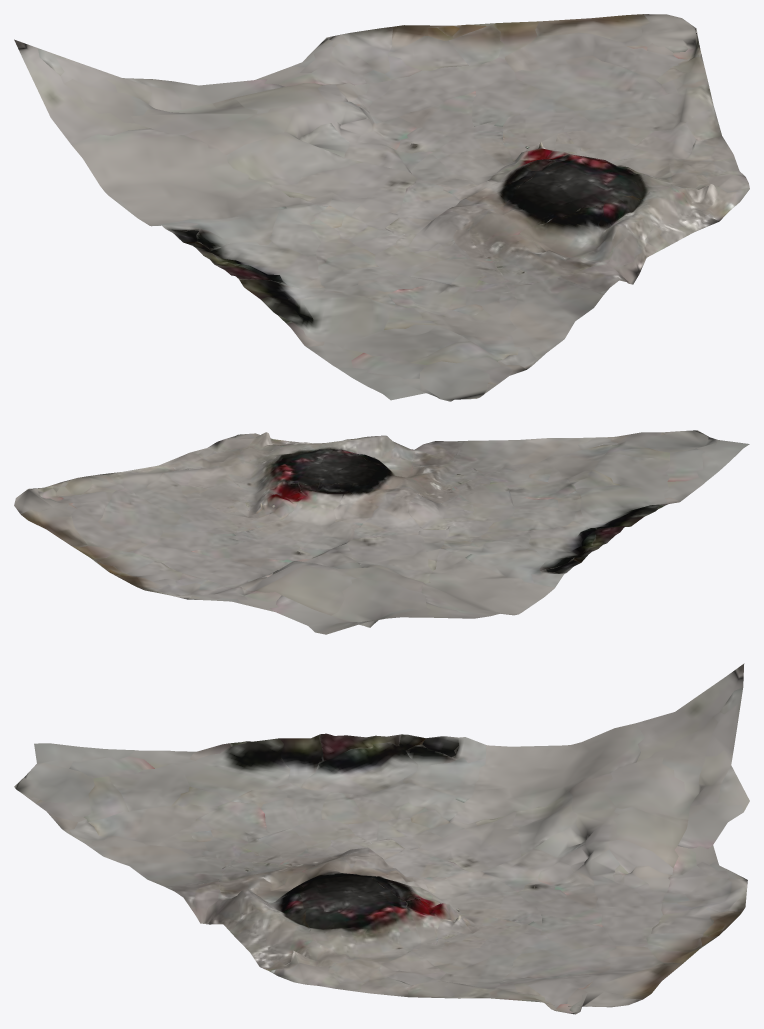
File: hall.glb
3 views of the same model, one above another, from view 1: azimuth 30°, elevation 25°; view 2: azimuth 150°, elevation 25°; view 3: azimuth 270°, elevation 25° (orthographic). The views are drawn at different scales.
Bounding box in the file's own units: 2.01 × 0.3691 × 2.27.
Materials: 1 (1 with a texture image).
